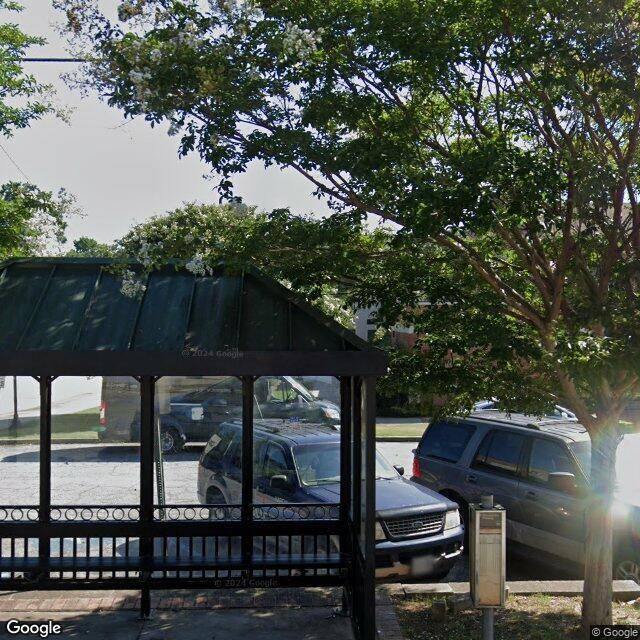seating: (0, 518, 351, 574)
shelter: (0, 255, 389, 640)
